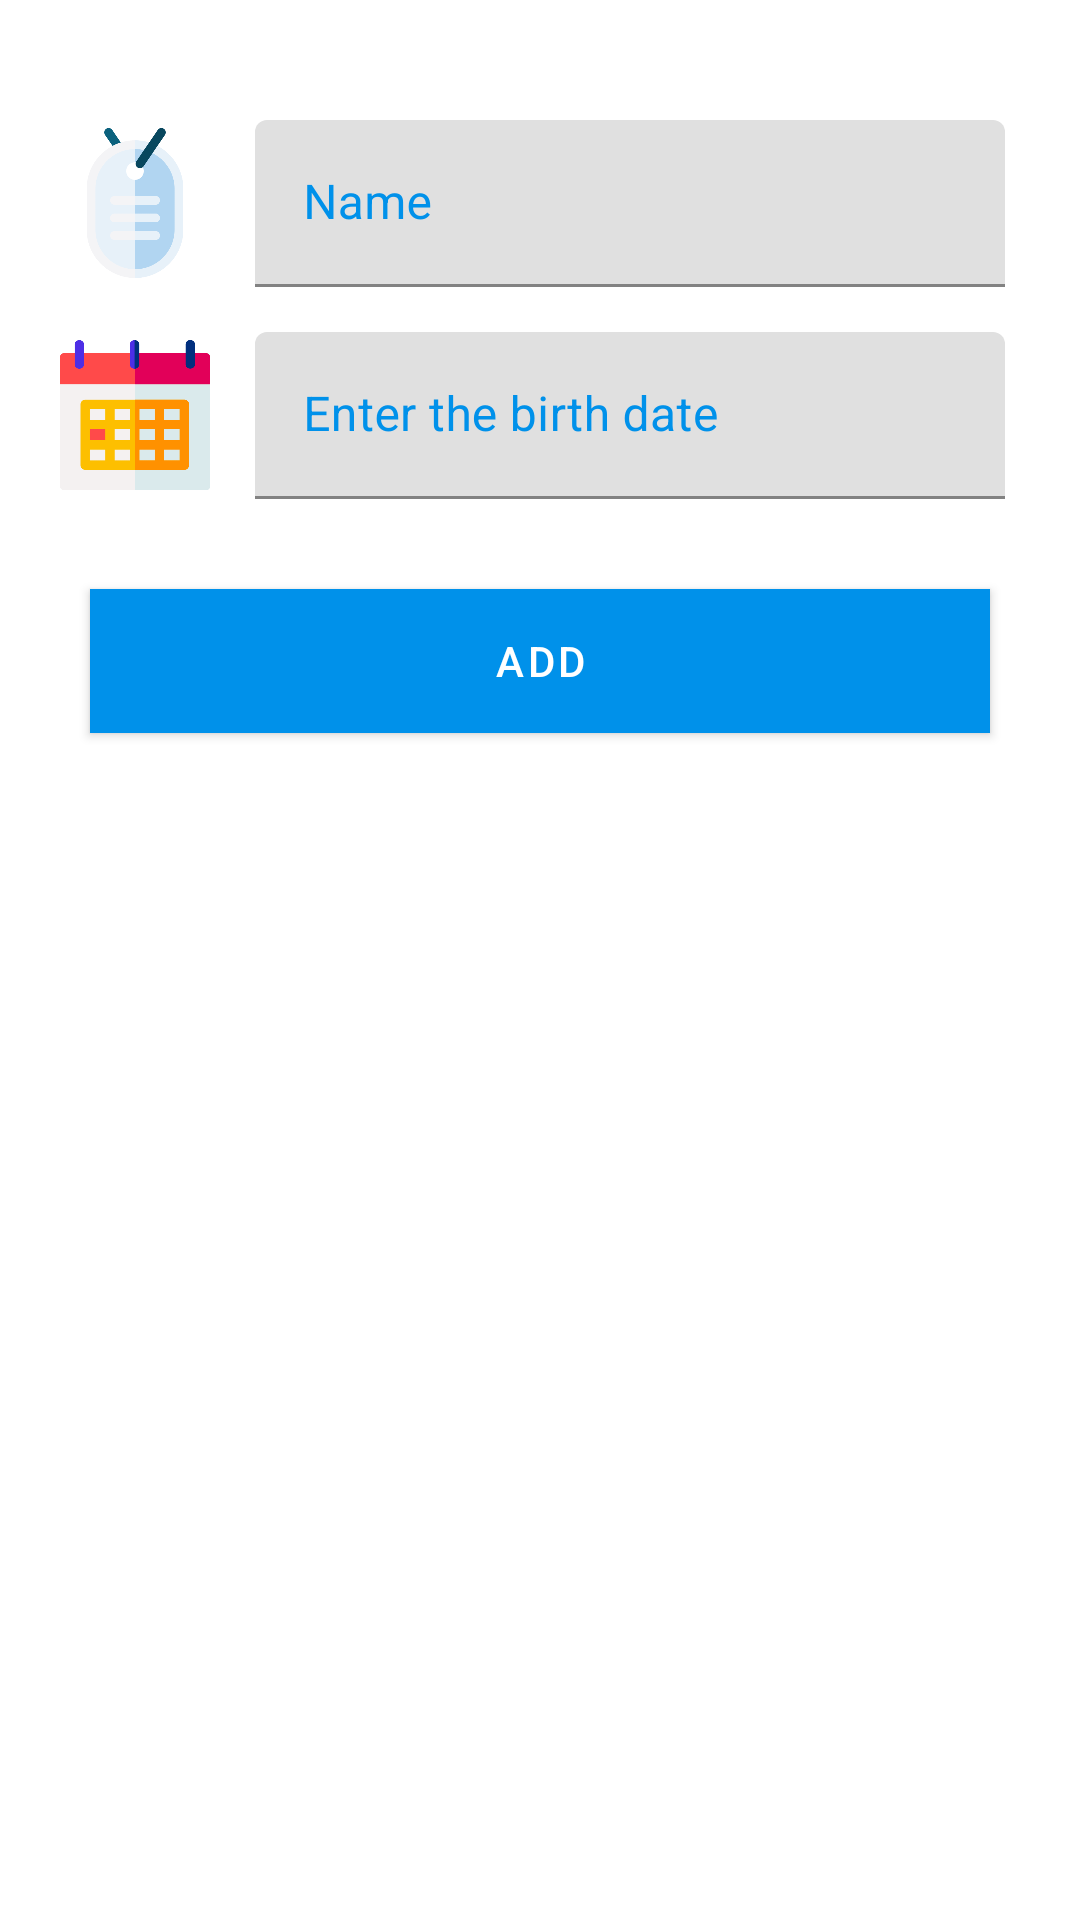

Screen size 1080 x 1920. Icon name, then its center in pixels as (x=x, y=y):
im calendar manager: (x=135, y=415)
